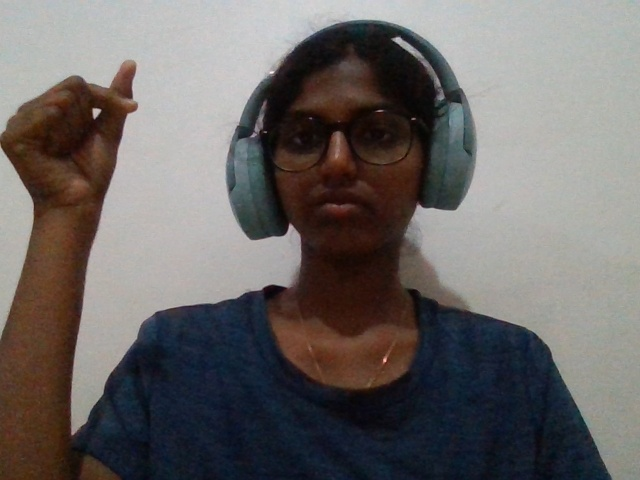G: (1, 38, 158, 309)
